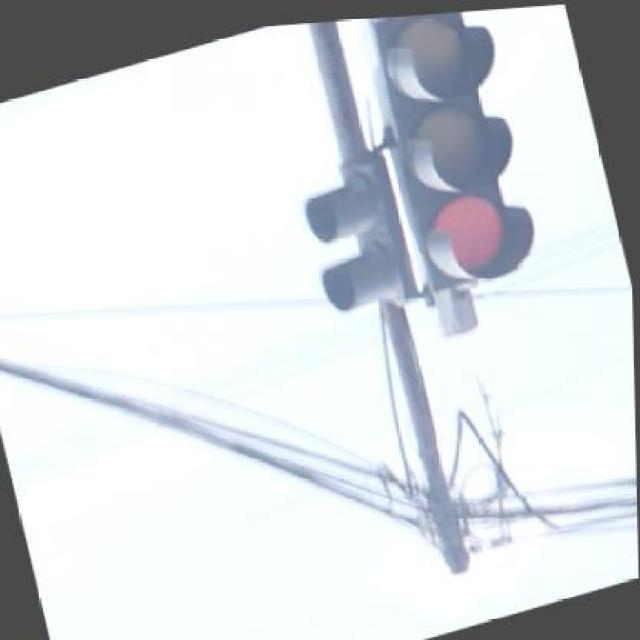red_light: (373, 12, 532, 332)
